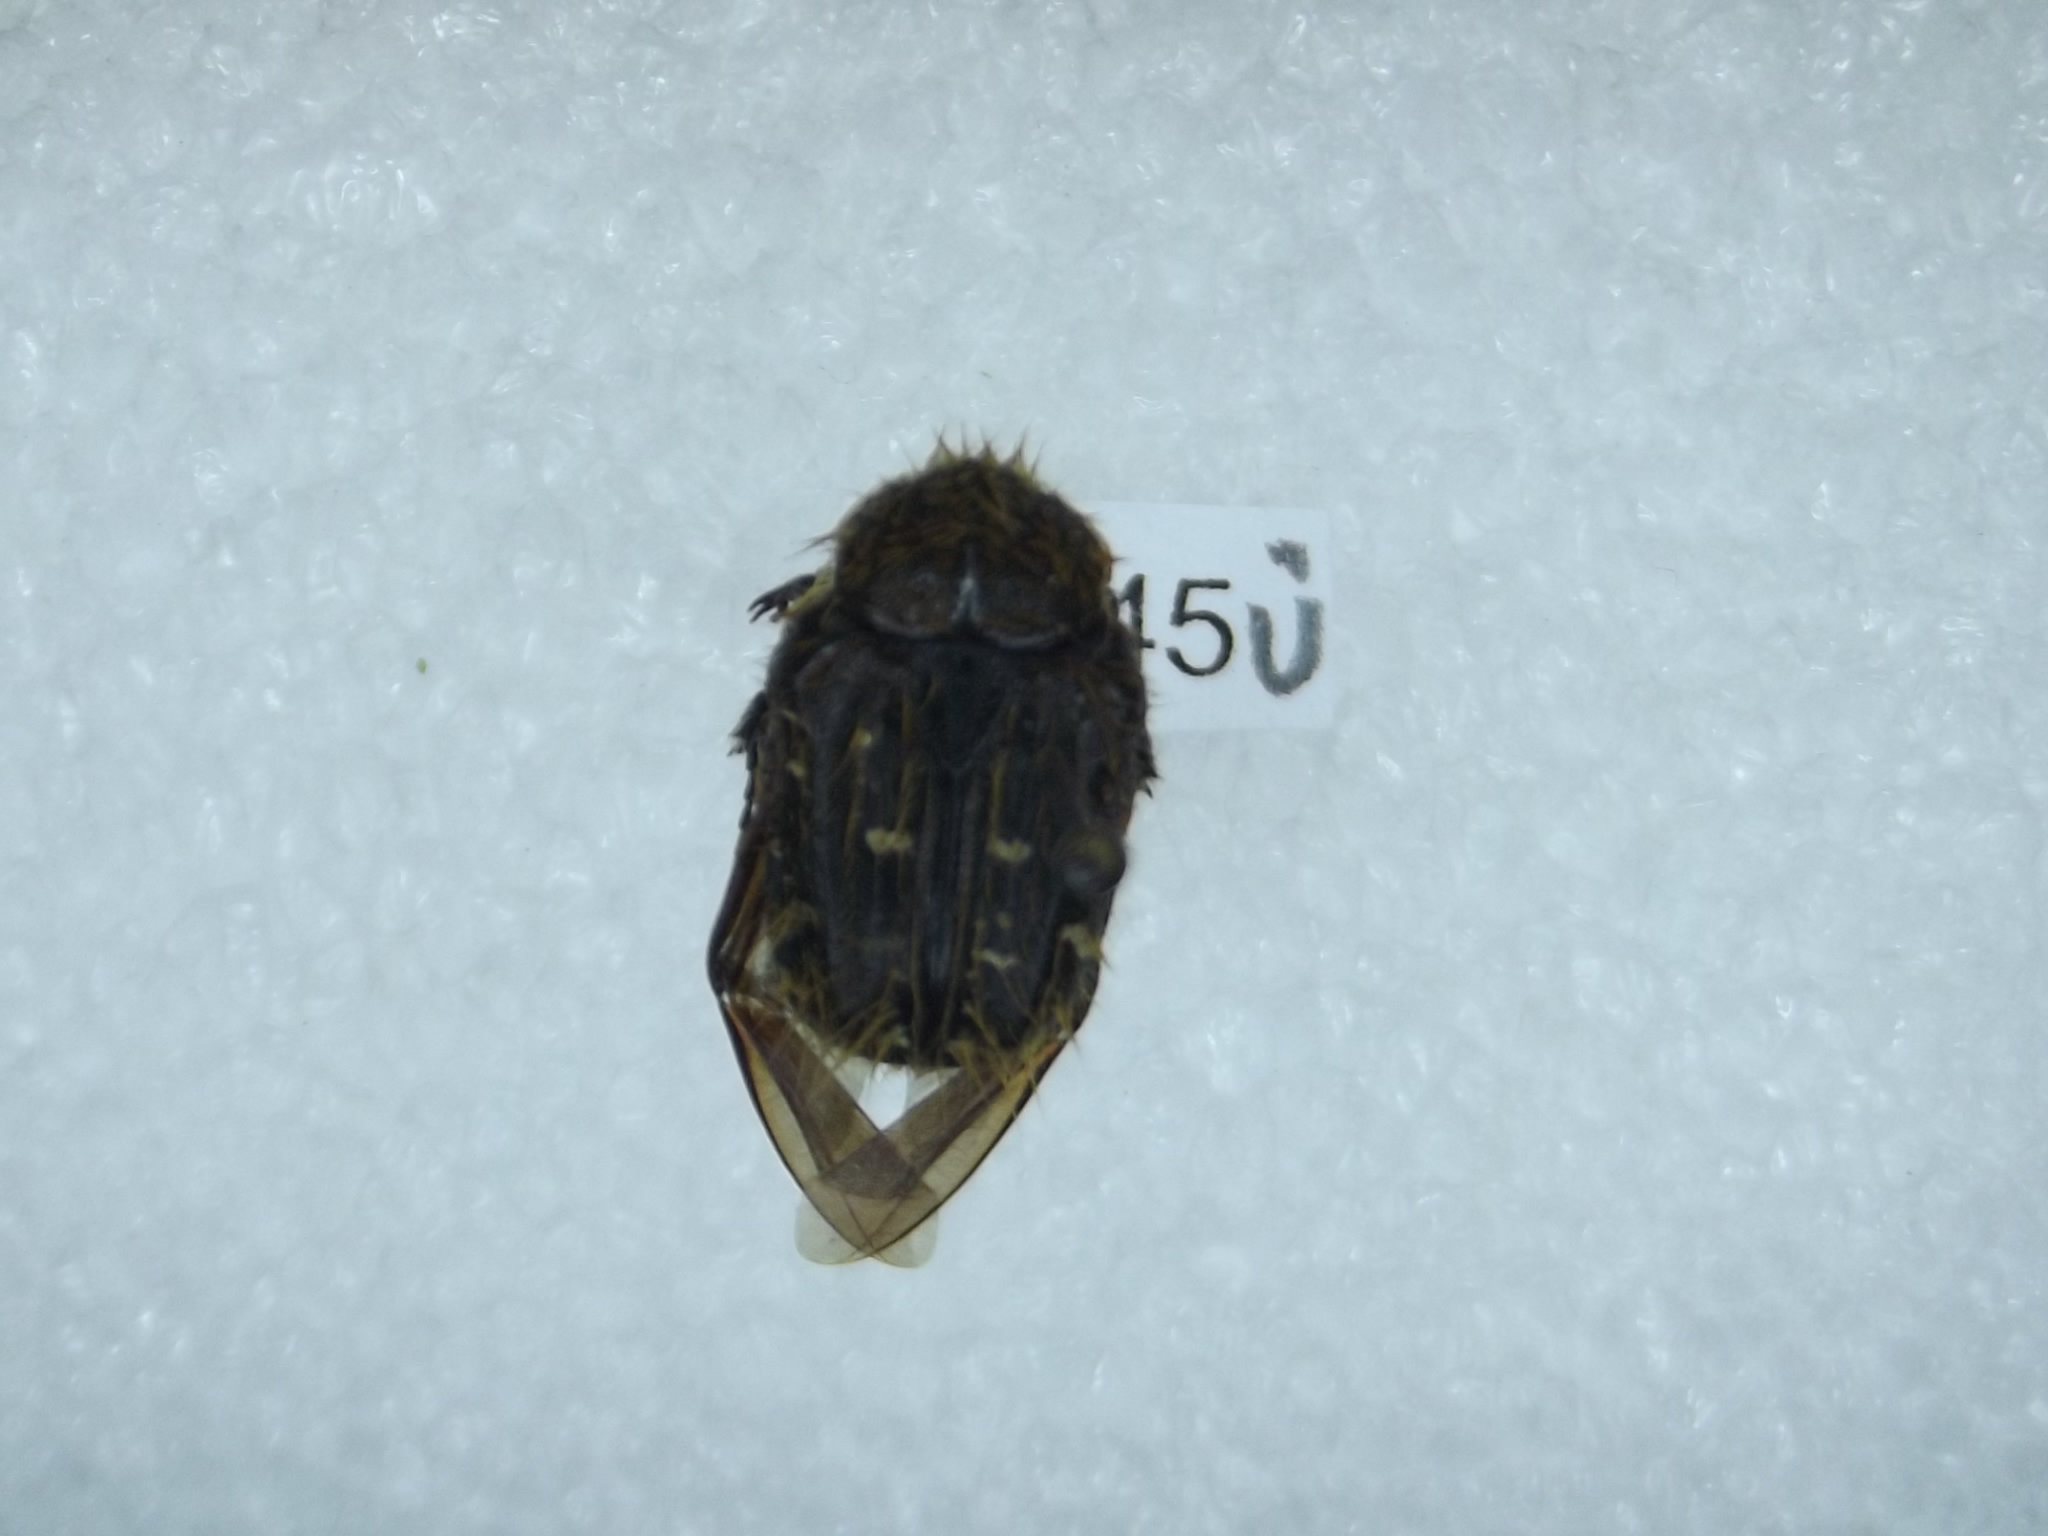Tropinota_hirta: (668, 421, 1184, 1270)
